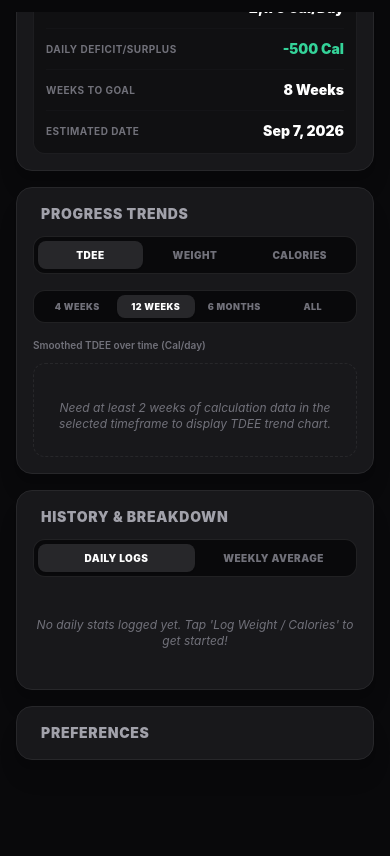
Scenario: TDEEScreen › weekly history › returns to the daily tab
The width and height of the screenshot is (390, 856).
(page scrolled)
Click the element with test id "weekly-average-tab" at (273, 558), box [223, 552, 324, 564]
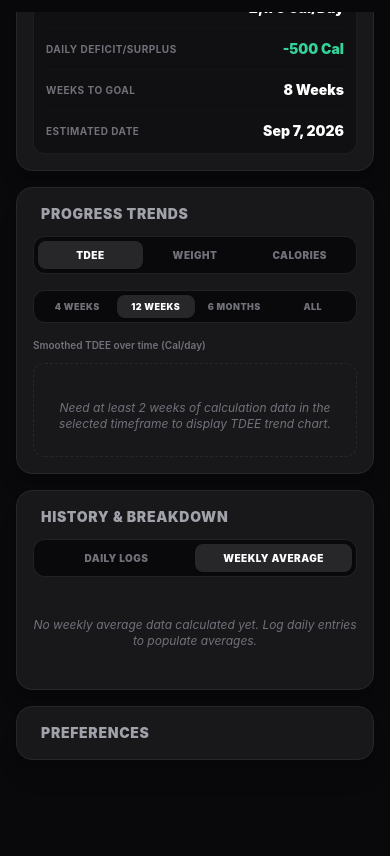
Click the element with test id "daily-logs-tab" at (116, 558), box [84, 552, 148, 564]
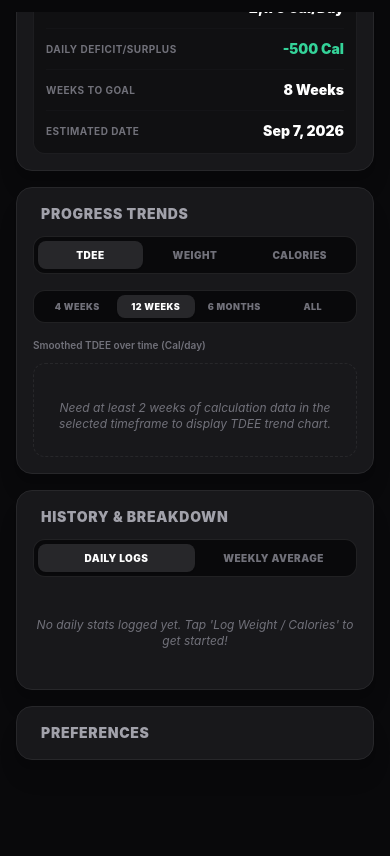
Expected: the text "No daily stats logged yet" is shown, [37, 617, 357, 648]
